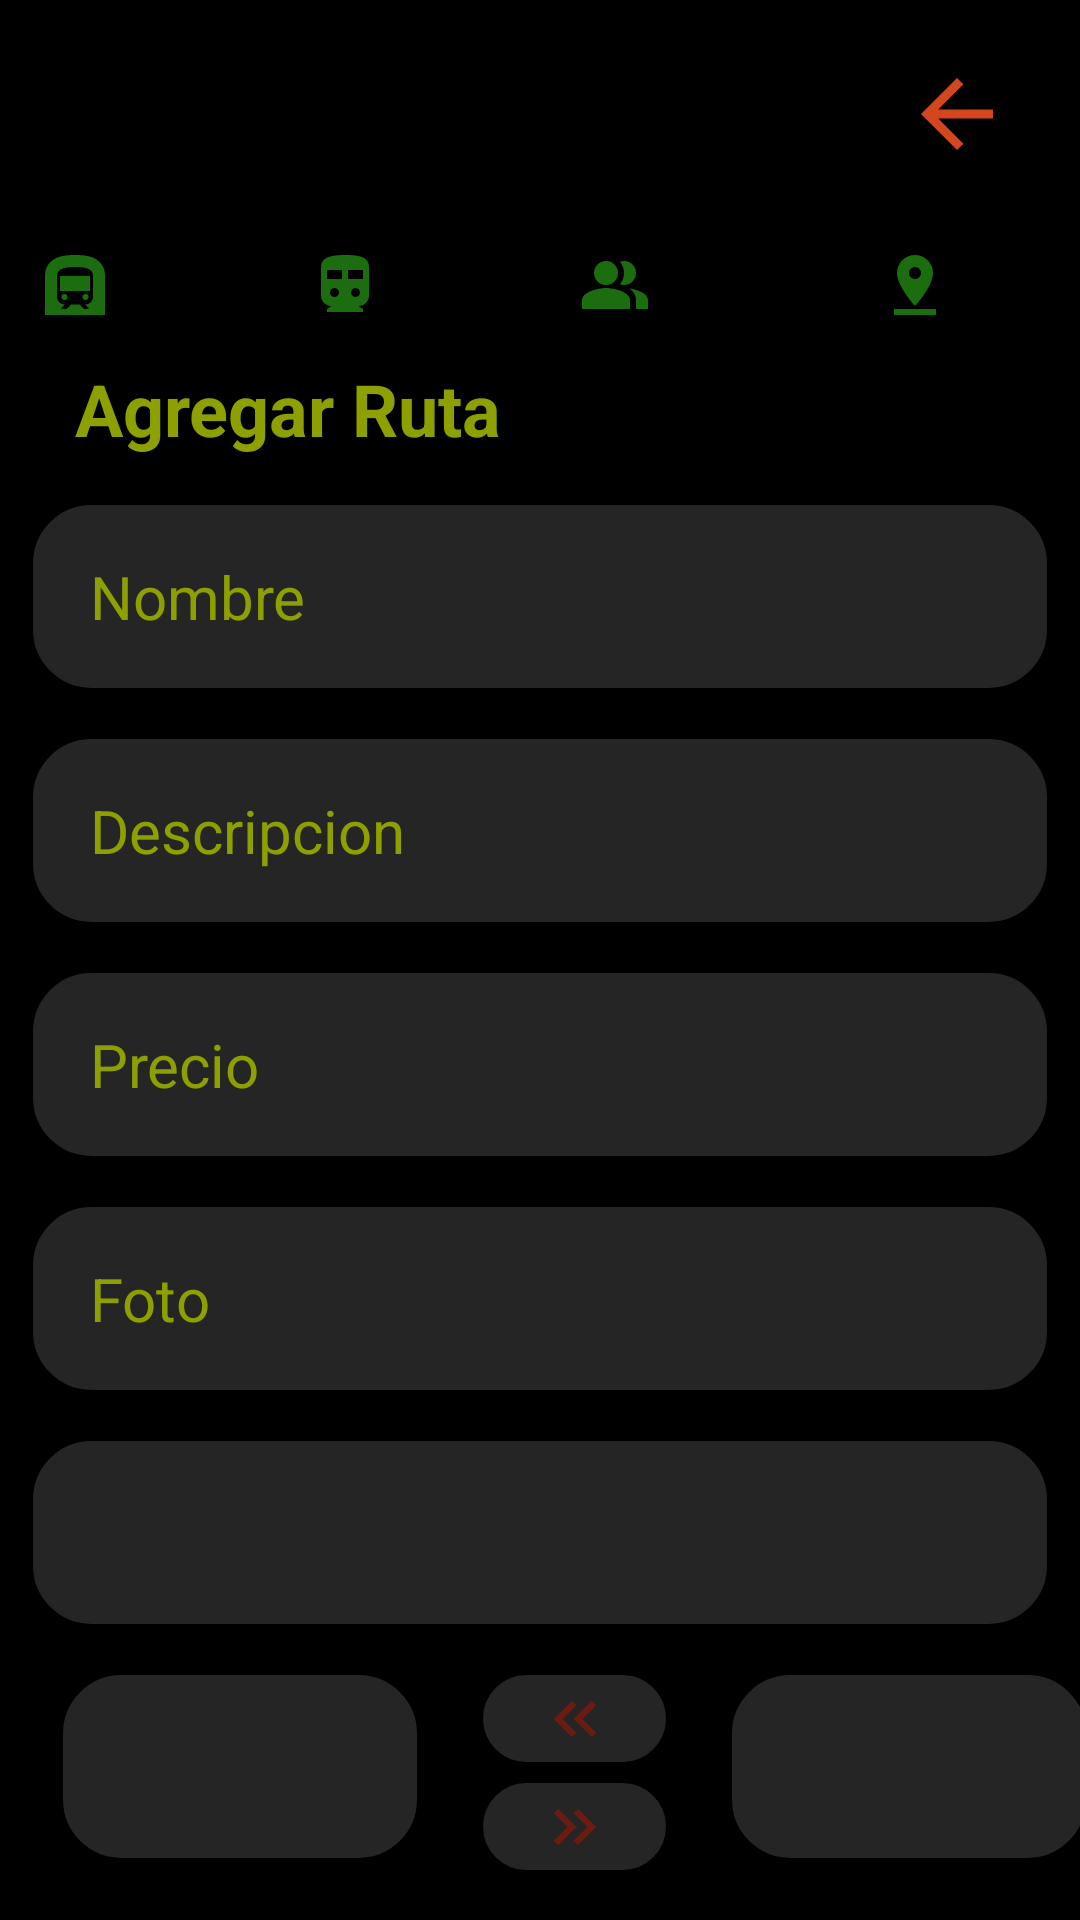

Where icons sit on this 1080*1920 app screen, as box(x1, y1, x2, y2):
back flecha: box(921, 78, 993, 150)
puntoicono: box(894, 255, 936, 315)
usericono: box(582, 261, 648, 309)
